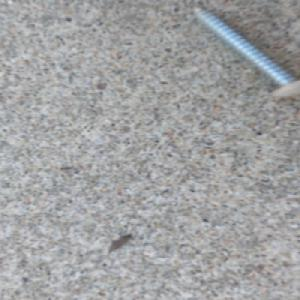Screw: (190, 4, 300, 101)
